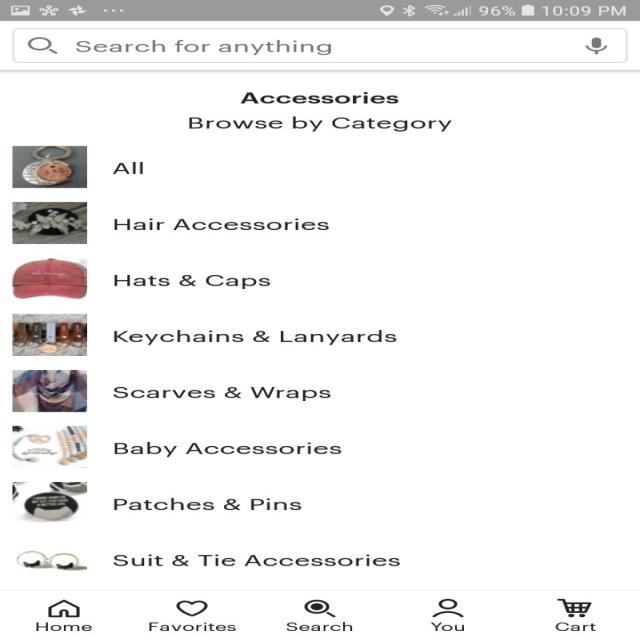EditText: (12, 28, 628, 64)
Icon: (556, 598, 592, 617), (47, 598, 80, 618), (303, 598, 336, 617), (431, 598, 464, 617), (175, 599, 208, 616), (28, 36, 58, 54), (584, 37, 607, 55)
Image: (12, 201, 88, 244), (12, 145, 88, 188), (12, 314, 88, 356), (12, 370, 88, 412), (12, 426, 88, 468), (12, 258, 88, 299), (12, 482, 88, 522), (15, 549, 87, 571)
Text: (112, 329, 396, 345), (76, 40, 330, 56), (188, 116, 452, 131), (114, 441, 342, 457), (112, 554, 398, 566), (112, 386, 331, 401), (114, 218, 329, 230), (112, 497, 302, 510), (114, 274, 270, 289), (240, 91, 398, 104), (148, 621, 235, 631), (285, 621, 353, 631), (36, 621, 92, 631), (554, 621, 596, 631), (112, 162, 144, 174), (429, 622, 464, 631)
